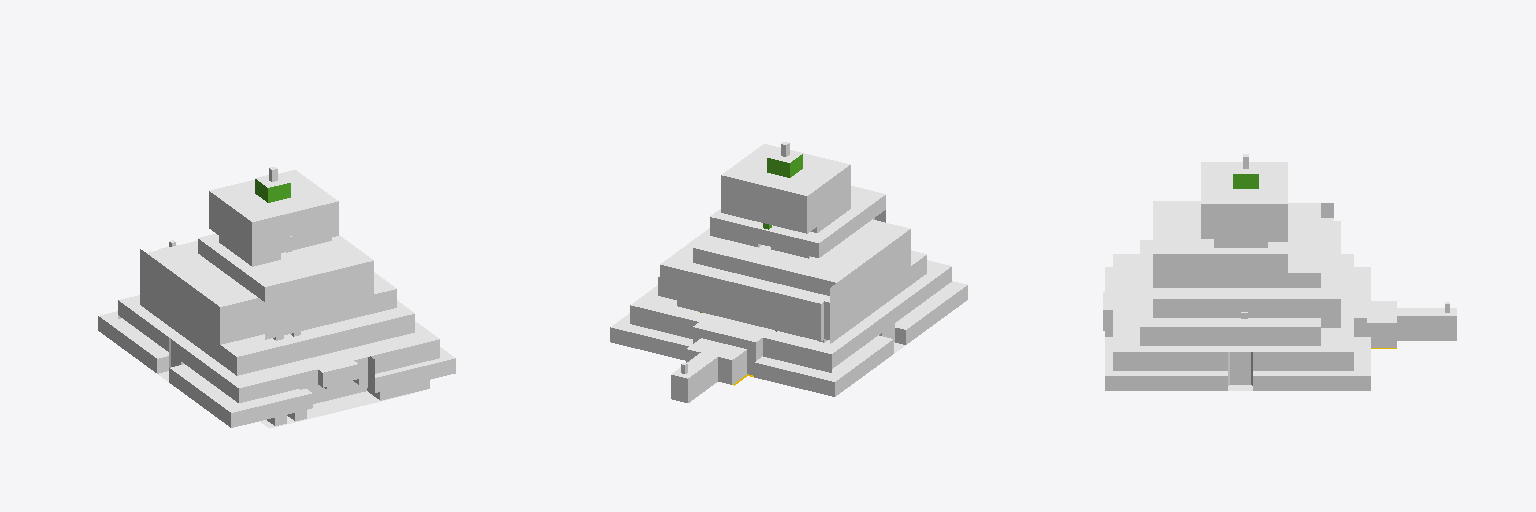
Rendered from Shifting Sand Land Area 2.obj.
The picture shows the model from 3 angles: view 1: azimuth 30°, elevation 25°; view 2: azimuth 150°, elevation 25°; view 3: azimuth 270°, elevation 25°; orthographic projection.
Bounding box in the file's own units: 15974 × 13616 × 21812.